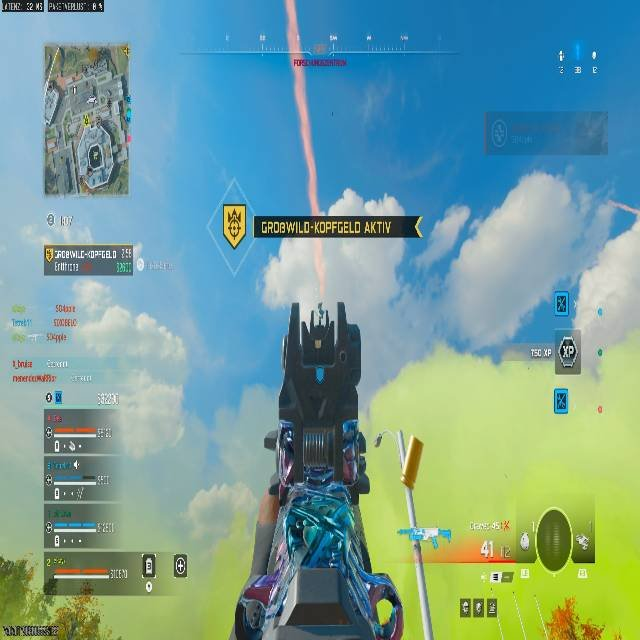head: (303, 463, 335, 487)
